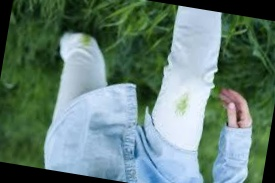earth: (175, 93, 188, 116), (79, 35, 93, 48)
